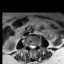CCS_normal: (31, 43, 33, 51)
LFS_normal: (36, 41, 38, 49)
LLS_normal: (33, 43, 36, 50)
RFS_normal: (27, 41, 29, 49)
RLS_normal: (29, 43, 31, 50)
